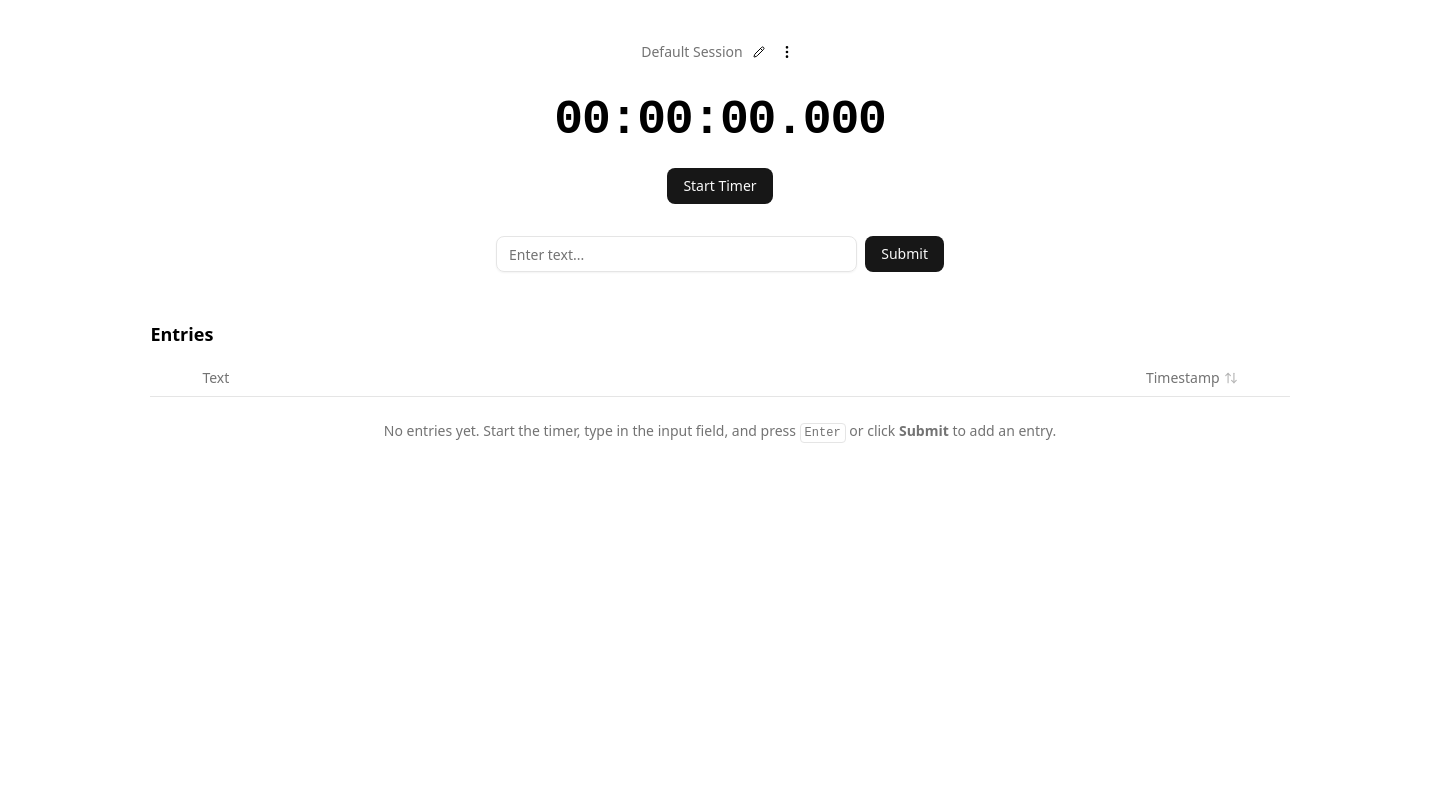
Test: Index › shows delete session option in session settings menu
Click the button with test id "session-settings-trigger".
click(787, 52)  # box [775,40,799,64]
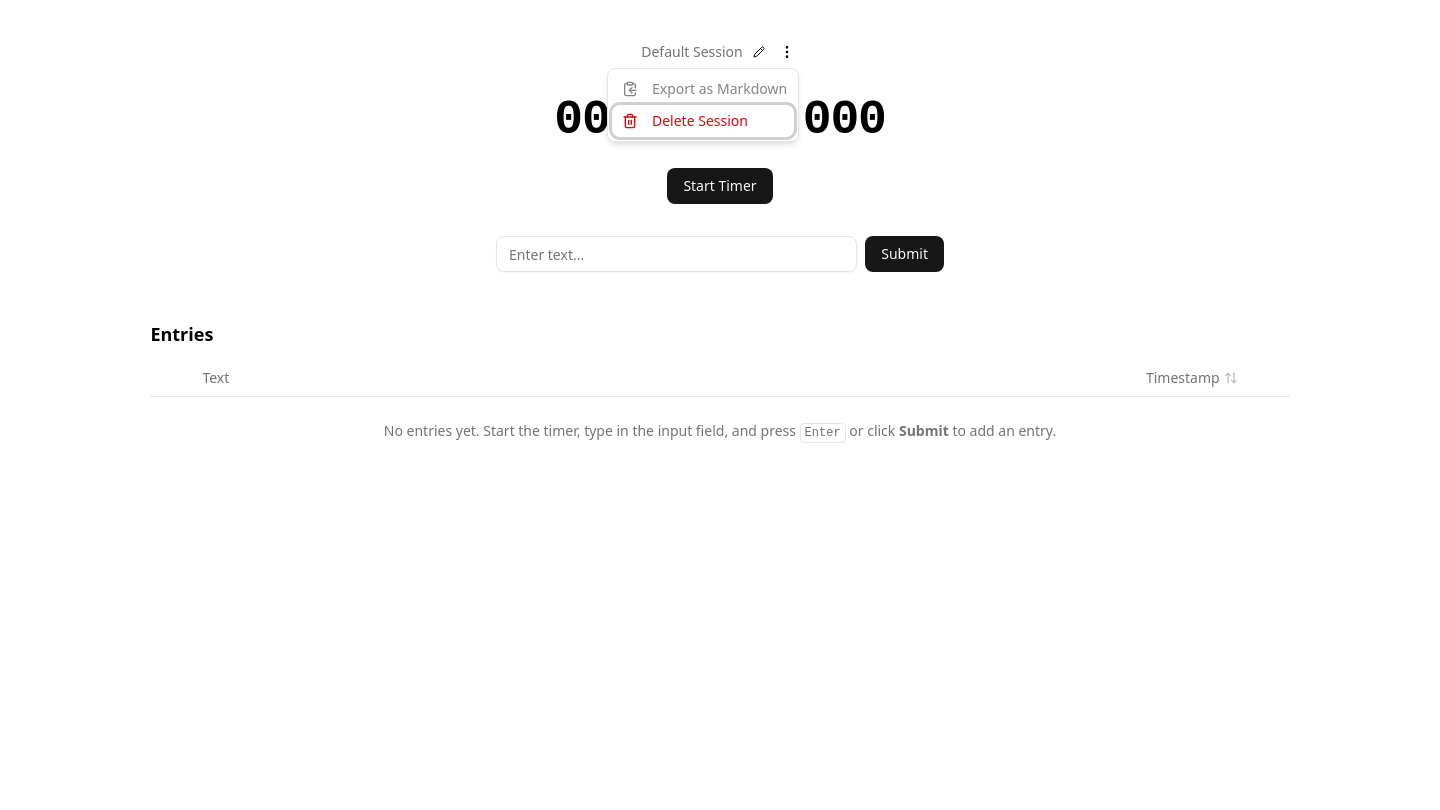
Check: the button with test id "delete-session-button" reads "Delete Session", box [612,105,794,137]
